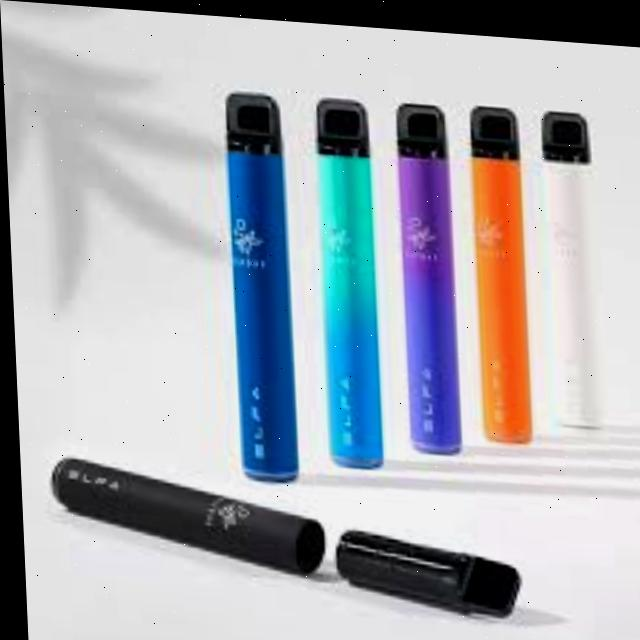vape: (224, 85, 295, 480), (313, 91, 381, 466), (393, 96, 460, 448), (534, 100, 604, 423), (467, 97, 531, 436)
